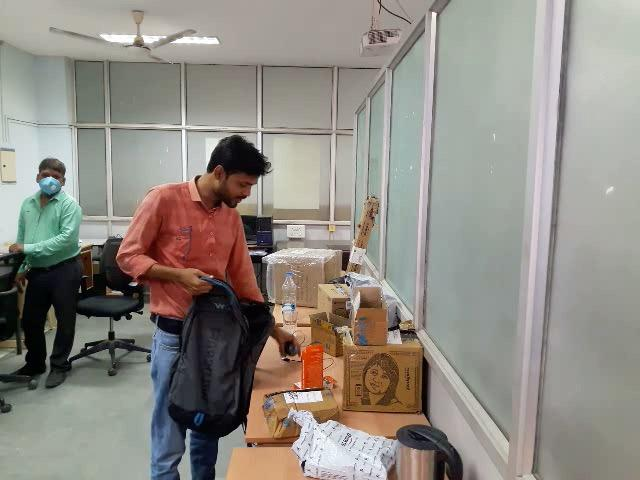shoplifting: (94, 208, 311, 480)
